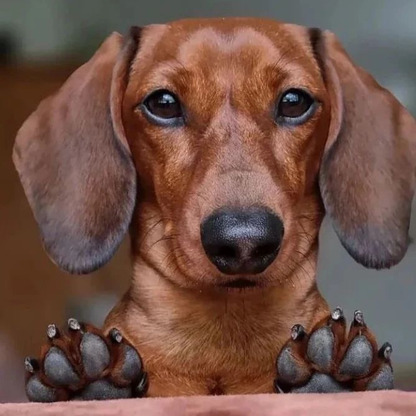dachshund: (36, 23, 398, 398)
